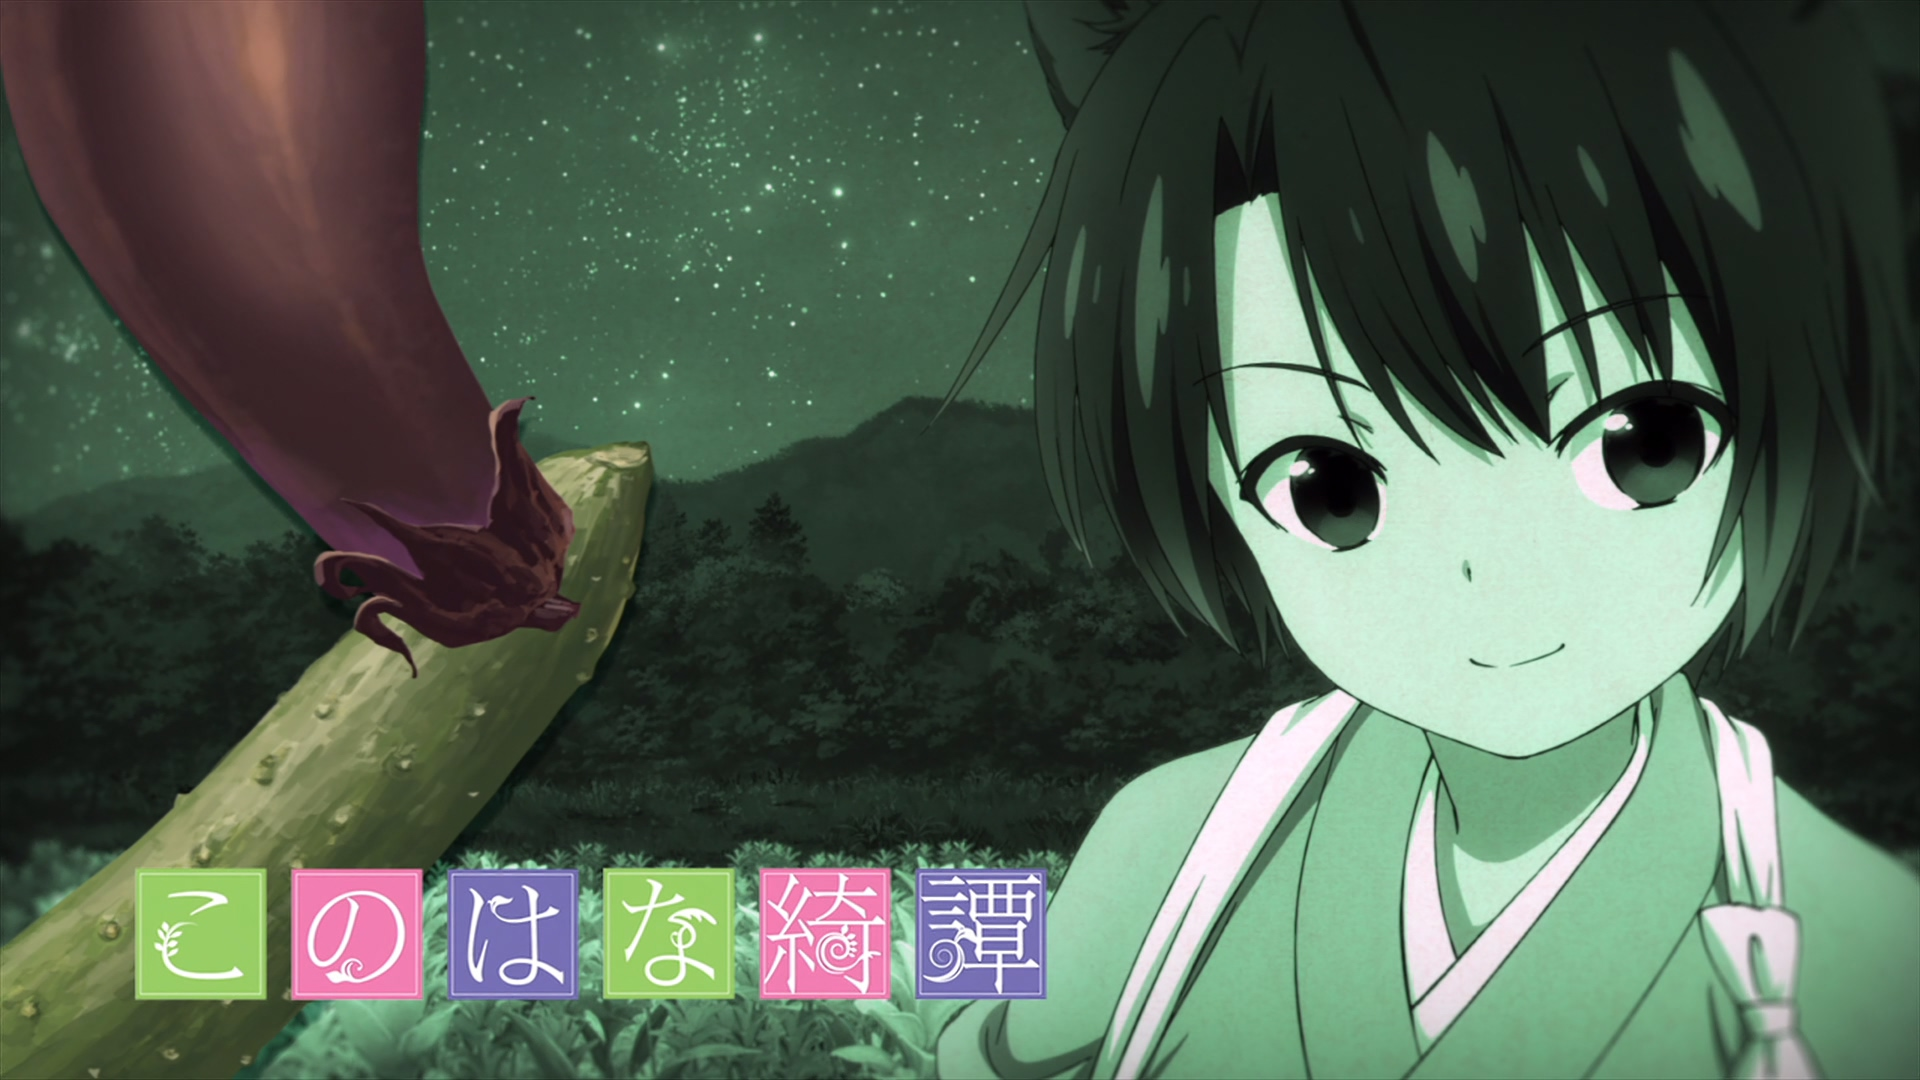枣: (934, 1, 1920, 1080)
